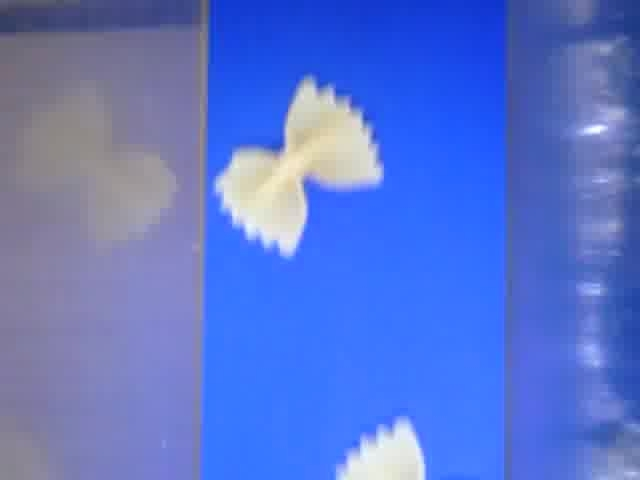farfalle: (214, 77, 384, 257), (333, 413, 428, 480)
